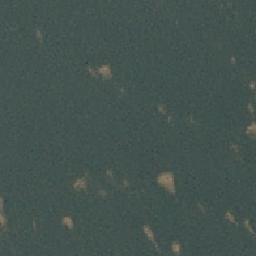debris: (156, 171, 177, 199), (246, 83, 256, 133), (225, 212, 252, 228), (89, 63, 112, 81), (141, 226, 155, 248), (73, 177, 88, 192), (60, 215, 74, 230), (170, 242, 180, 251)
